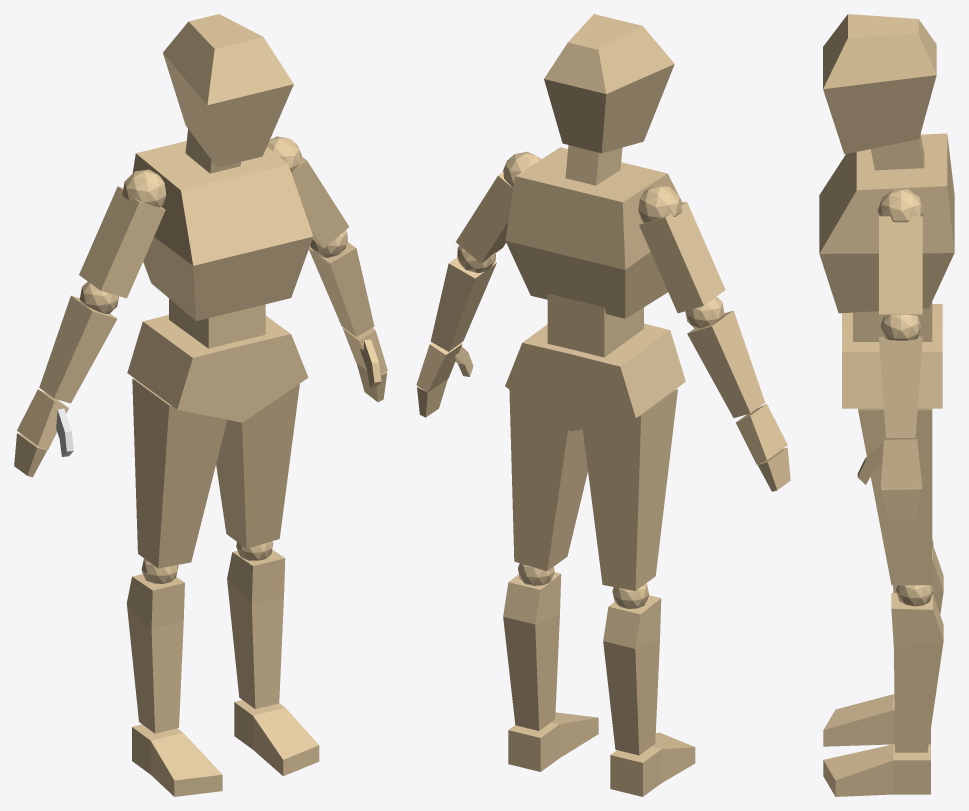
The model's file is man.fbx.
3 views of the same model, side by side, from view 1: azimuth 30°, elevation 25°; view 2: azimuth 150°, elevation 25°; view 3: azimuth 270°, elevation 25° (orthographic).
Visible parts, largest first — view 1: Cube.002, Cube, Cube.004, Cube.018, Cube.005, Cube.019, Cube.006, Cube.013, Cube.014, Cube.020, Cube.012, Cube.008 (+9 smaller); view 2: Cube.002, Cube, Cube.018, Cube.004, Cube.005, Cube.019, Cube.006, Cube.013, Cube.014, Cube.003, Cube.012, Cube.020 (+11 smaller); view 3: Cube.002, Cube, Cube.006, Cube.005, Cube.004, Cube.012, Cube.007, Cube.008, Cube.020, Cube.009, Cube.001, Cube.003 (+6 smaller).
Part boxes in pixels (x1,y1,x2,y2): Cube.002: [132, 141, 313, 320]; Cube: [163, 14, 293, 167]; Cube.004: [127, 315, 308, 422]; Cube.018: [132, 378, 227, 568]; Cube.005: [216, 384, 299, 548]; Cube.019: [126, 574, 184, 733]; Cube.006: [227, 549, 285, 709]; Cube.013: [79, 186, 165, 298]; Cube.014: [39, 295, 117, 403]; Cube.020: [132, 724, 222, 796]; Cube.012: [234, 700, 319, 776]; Cube.008: [309, 242, 374, 336]; Cube.002: [505, 147, 682, 318]; Cube: [544, 14, 674, 153]; Cube.018: [582, 389, 677, 590]; Cube.004: [505, 323, 685, 431]; Cube.005: [509, 389, 587, 571]; Cube.019: [603, 595, 661, 755]; Cube.006: [503, 572, 561, 730]; Cube.013: [639, 201, 725, 313]; Cube.014: [687, 310, 764, 417]; Cube.003: [547, 294, 643, 357]; Cube.012: [508, 712, 598, 771]; Cube.020: [610, 732, 695, 796]; Cube.002: [819, 133, 954, 313]; Cube: [823, 14, 936, 154]; Cube.006: [891, 593, 943, 752]; Cube.005: [858, 408, 932, 585]; Cube.004: [842, 304, 942, 408]; Cube.012: [823, 744, 930, 796]; Cube.007: [879, 216, 922, 317]; Cube.008: [879, 336, 922, 437]; Cube.020: [823, 694, 930, 746]; Cube.009: [880, 439, 922, 487]; Cube.001: [870, 134, 924, 170]; Cube.003: [853, 301, 932, 341].
Bounding box in the file's own units: 297 × 582 × 97.04.
